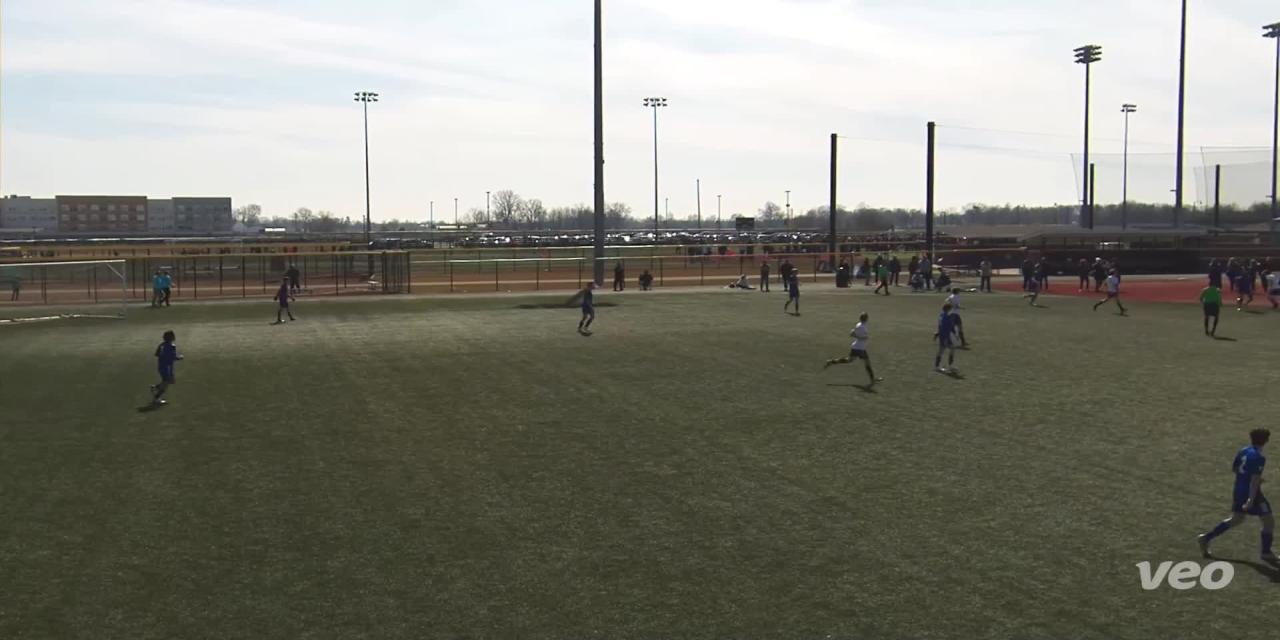goal: (0, 261, 136, 328)
